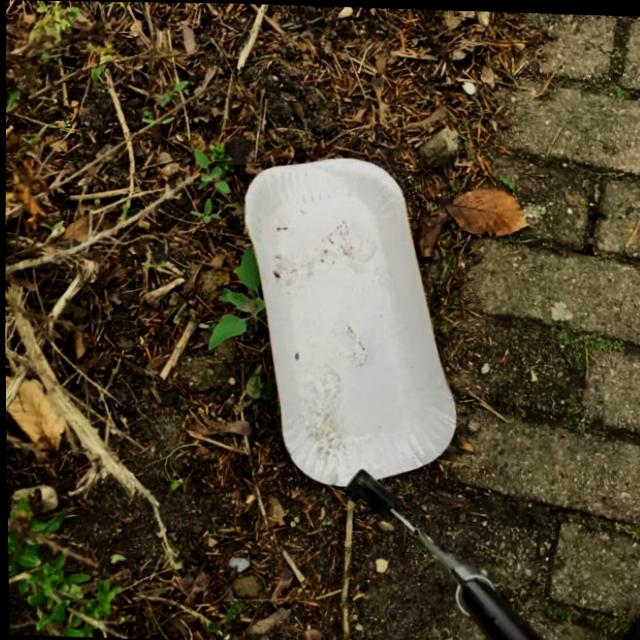Paper: (234, 148, 466, 493)
